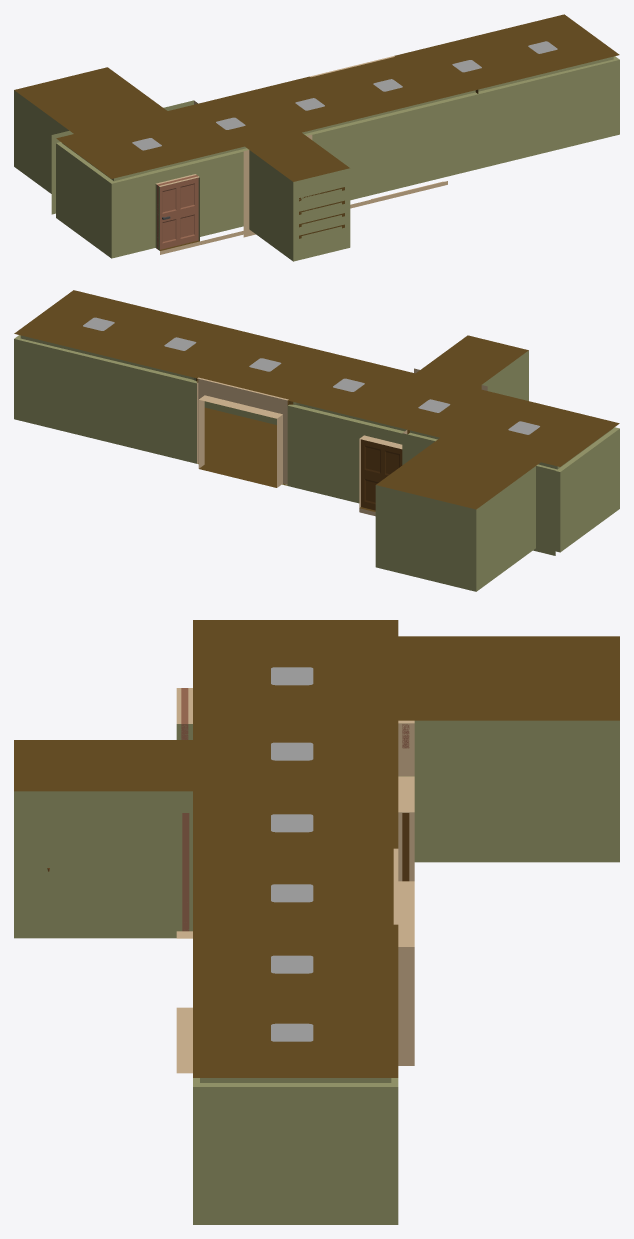
Rendered from Pasillo 1.fbx.
3 views of the same model, one above another, from view 1: azimuth 30°, elevation 25°; view 2: azimuth 150°, elevation 25°; view 3: azimuth 270°, elevation 25° (orthographic). The views are drawn at different scales.
Visible parts, largest first — view 1: Pasillo, Puerta, LucesPasillo, EstantesMantenimiento; view 2: Pasillo, Puerta.003, LucesPasillo; view 3: Pasillo, LucesPasillo, Puerta.001, Cube.014, Cube.002, Cube.016.
Boxes of the visible parts, x1=… form: Pasillo: x1=14, y1=14, x2=619, y2=261; Puerta: x1=157, y1=175, x2=198, y2=249; LucesPasillo: x1=132, y1=98, x2=324, y2=150; EstantesMantenimiento: x1=299, y1=187, x2=344, y2=238; Pasillo: x1=14, y1=290, x2=619, y2=591; Puerta.003: x1=361, y1=439, x2=402, y2=510; LucesPasillo: x1=333, y1=378, x2=539, y2=434; Pasillo: x1=14, y1=620, x2=619, y2=1224; LucesPasillo: x1=271, y1=667, x2=313, y2=832; Puerta.001: x1=182, y1=813, x2=189, y2=931; Cube.014: x1=271, y1=955, x2=313, y2=973; Cube.002: x1=271, y1=884, x2=313, y2=902; Cube.016: x1=271, y1=1023, x2=313, y2=1041.
Size of the model in its own units: 2200 by 357 by 1230.
